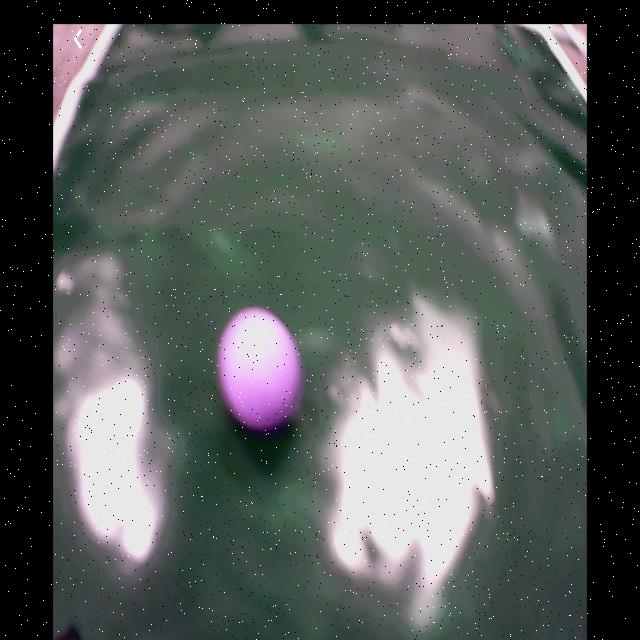ball: (216, 305, 305, 433)
